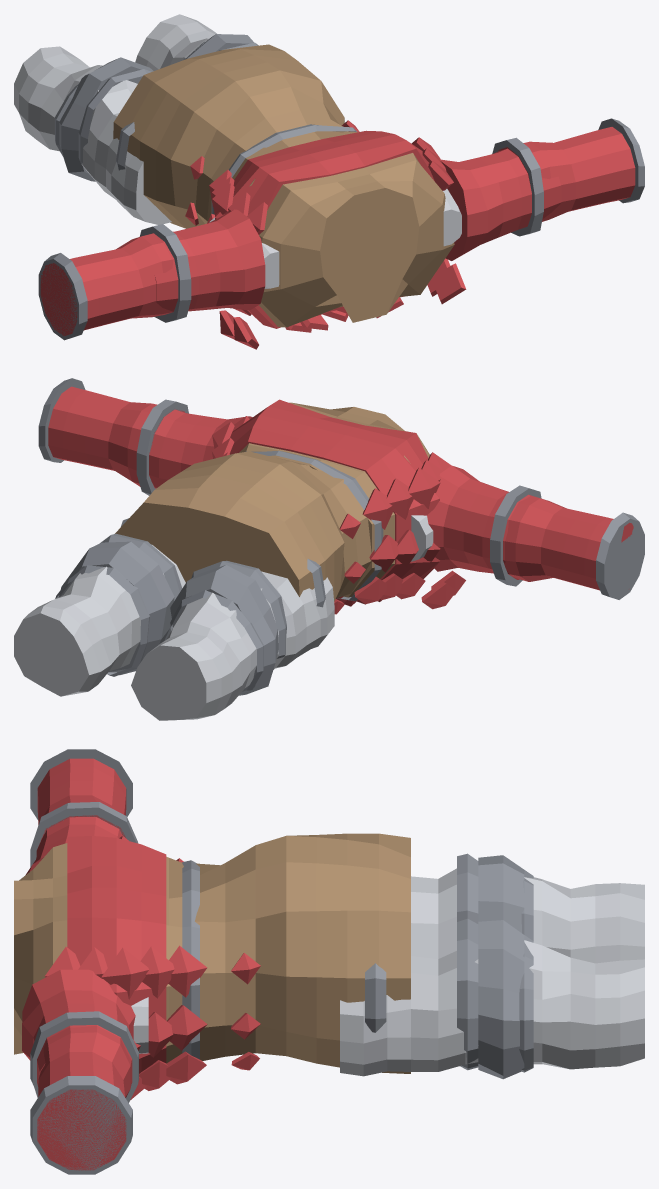
File: armor_scale.glb
3 renders of one model, top to bottom at view 1: azimuth 30°, elevation 25°; view 2: azimuth 150°, elevation 25°; view 3: azimuth 270°, elevation 25°, orthographic. The views are drawn at different scales.
Parts seen in each view (by area): view 1: Torso, Abdomen, LowerArmR, UpperLegR, LowerArmL, UpperArmR, UpperArmL, LowerLegR, LowerLegL, UpperLegL; view 2: Abdomen, Torso, LowerLegL, LowerArmR, LowerLegR, LowerArmL, UpperLegR, UpperArmR, UpperLegL, UpperArmL; view 3: Abdomen, Torso, UpperLegL, LowerArmL, LowerLegL, LowerLegR, UpperLegR, LowerArmR, UpperArmL, UpperArmR.
Part boxes in pixels (box(x1,y1,x2,y2)): Torso: box(207, 124, 466, 349); Abdomen: box(113, 44, 359, 228); LowerArmR: box(38, 224, 191, 340); UpperLegR: box(59, 57, 171, 224); LowerArmL: box(492, 118, 644, 236); UpperArmR: box(151, 209, 279, 311); UpperArmL: box(440, 148, 561, 260); LowerLegR: box(14, 46, 102, 156); LowerLegL: box(135, 14, 216, 70); UpperLegL: box(186, 34, 258, 58); Abdomen: box(115, 451, 371, 614); Torso: box(212, 399, 465, 609); LowerLegL: box(14, 565, 150, 696); LowerArmR: box(490, 485, 644, 599); LowerLegR: box(131, 590, 263, 720); LowerArmL: box(38, 378, 188, 495); UpperLegR: box(170, 559, 334, 695); UpperArmR: box(411, 465, 531, 579); UpperLegL: box(59, 518, 185, 675); UpperArmL: box(149, 409, 252, 488); Abdomen: box(195, 833, 410, 1073); Torso: box(14, 836, 207, 1099); UpperLegL: box(340, 918, 524, 1079); LowerArmL: box(30, 1011, 138, 1174); LowerLegL: box(519, 935, 644, 1072); LowerLegR: box(521, 870, 644, 963); UpperLegR: box(411, 853, 524, 958); LowerArmR: box(30, 749, 138, 867); UpperArmL: box(22, 969, 148, 1086); UpperArmR: box(26, 817, 122, 874).
Size of the model in its own units: 2.24 by 0.7149 by 1.78.
